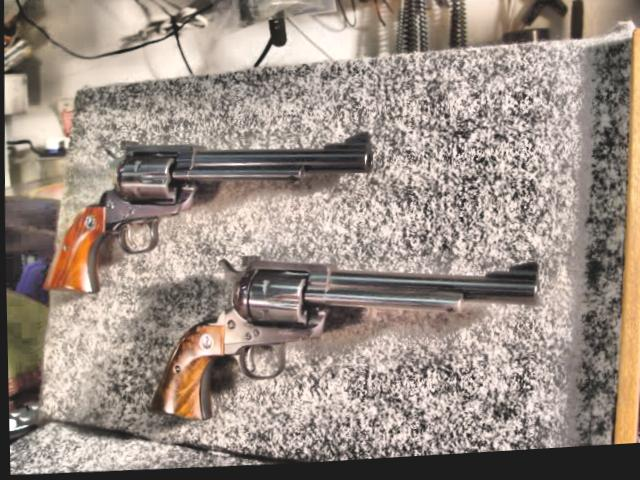pistol: (142, 244, 543, 426), (35, 122, 377, 305)
